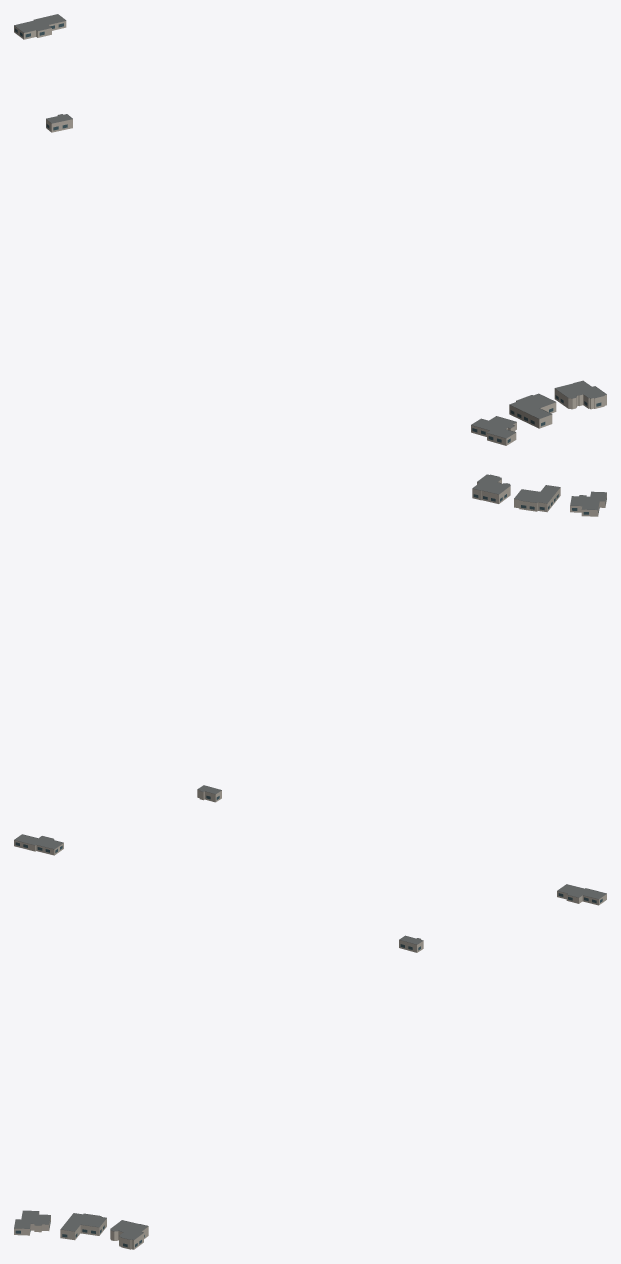
3 views of the same model, one above another, from view 1: azimuth 30°, elevation 25°; view 2: azimuth 150°, elevation 25°; view 3: azimuth 330°, elevation 25° (orthographic). The views are drawn at different scales.
Visible parts, largest first — view 1: Buildings (5, 9) Roof membrane, Buildings (5, 9) Masonry brick; view 2: Buildings (5, 9) Roof membrane, Buildings (5, 9) Masonry brick; view 3: Buildings (5, 9) Roof membrane, Buildings (5, 9) Masonry brick.
Part boxes in pixels (x1,y1,x2,y2): Buildings (5, 9) Roof membrane: [14, 14, 606, 438]; Buildings (5, 9) Masonry brick: [14, 20, 606, 445]; Buildings (5, 9) Roof membrane: [15, 474, 606, 849]; Buildings (5, 9) Masonry brick: [14, 479, 606, 855]; Buildings (5, 9) Roof membrane: [14, 884, 606, 1239]; Buildings (5, 9) Masonry brick: [14, 891, 606, 1249].
Size of the model in its own units: 73.97 by 9.69 by 546.
